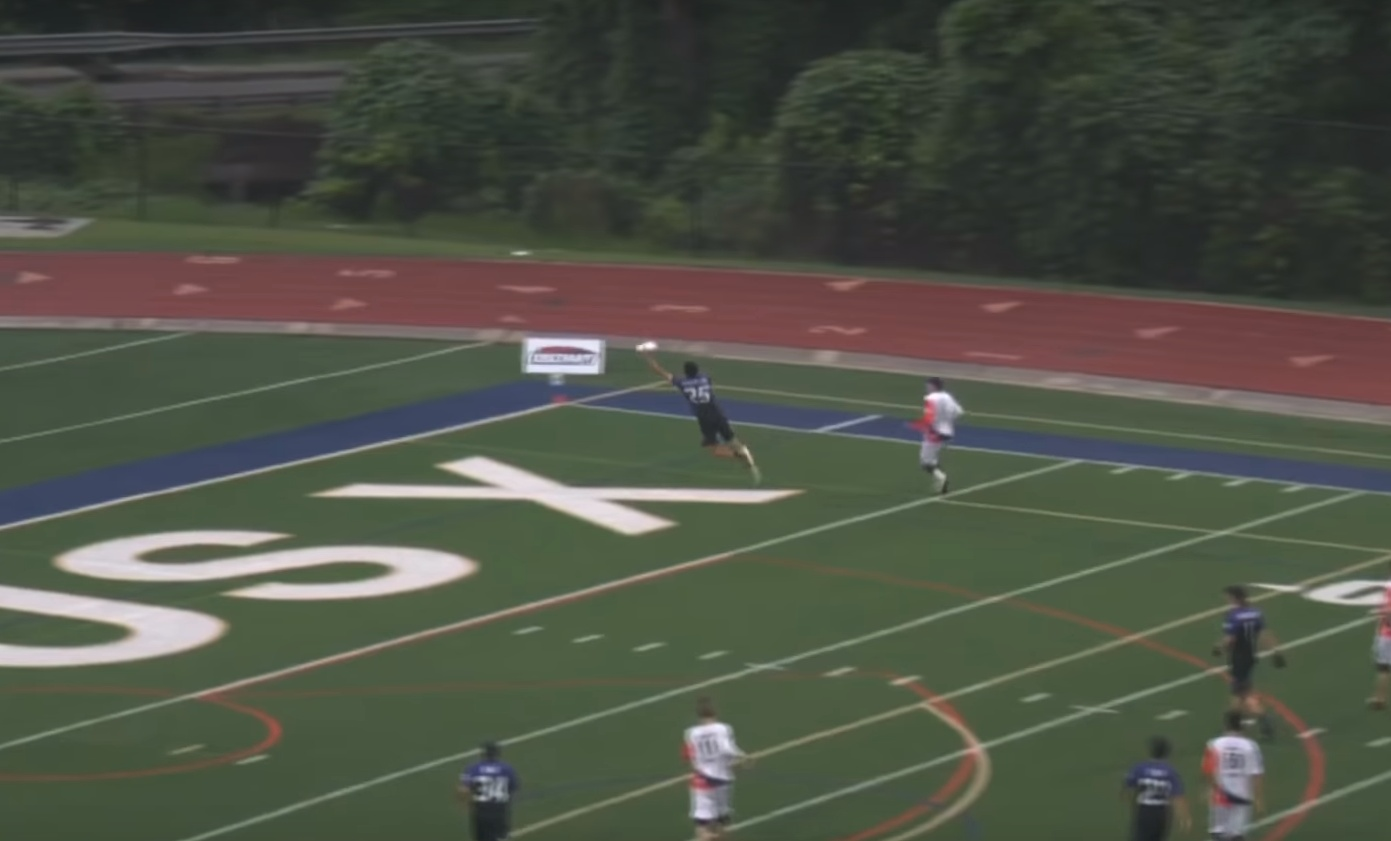frisbee: (635, 340, 659, 352)
